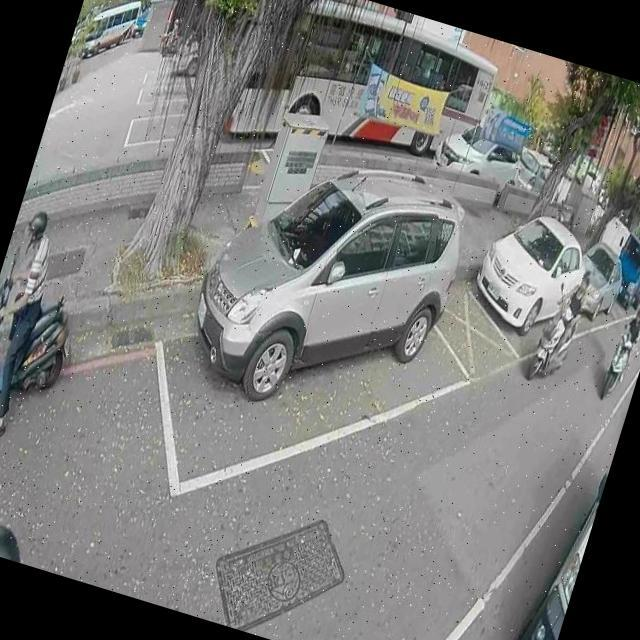person: (0, 203, 69, 444), (536, 263, 594, 372), (606, 301, 640, 384), (615, 304, 640, 383), (0, 517, 34, 564), (163, 16, 182, 50)
